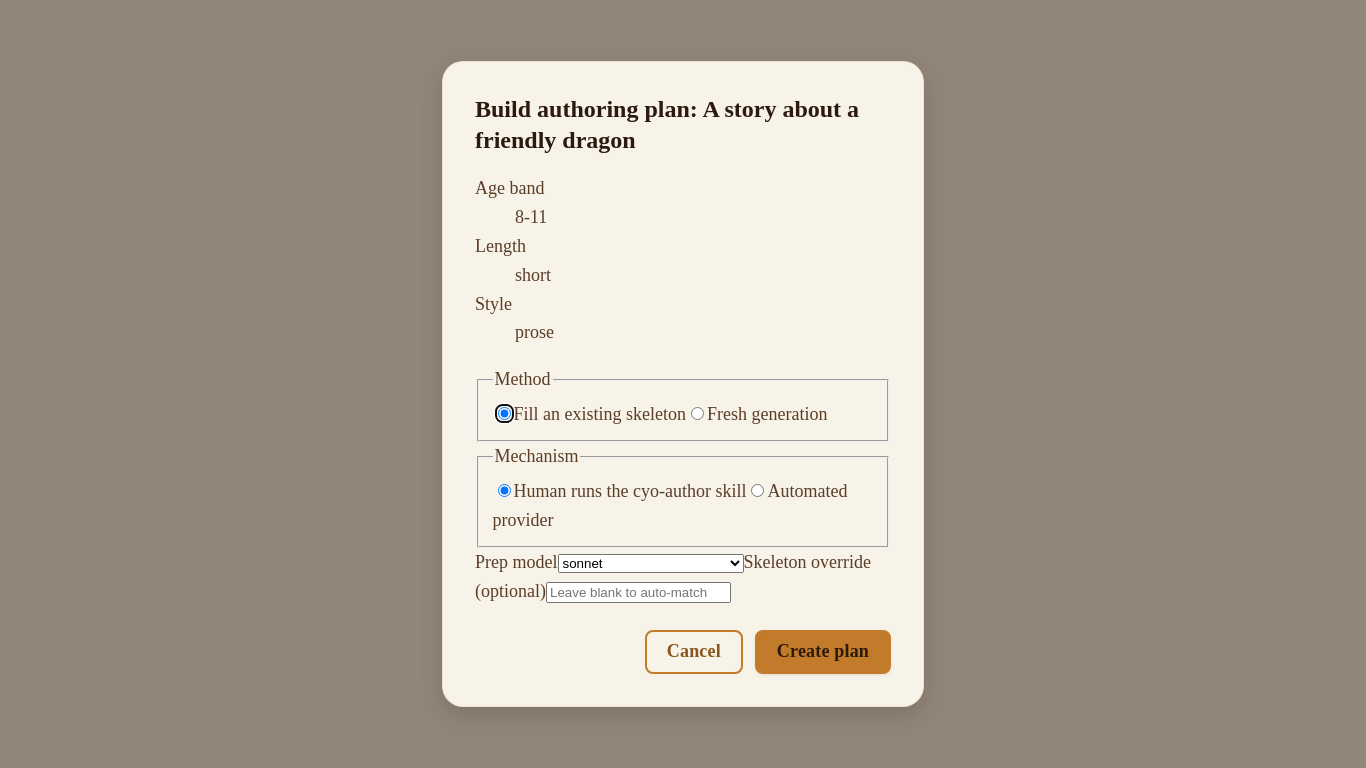
Test: AuthoringPlanDialog › requires provider and model before Create plan is enabled for an automated job
Click the radio button labelled "Automated provider": click(758, 491) [752,484,764,498]
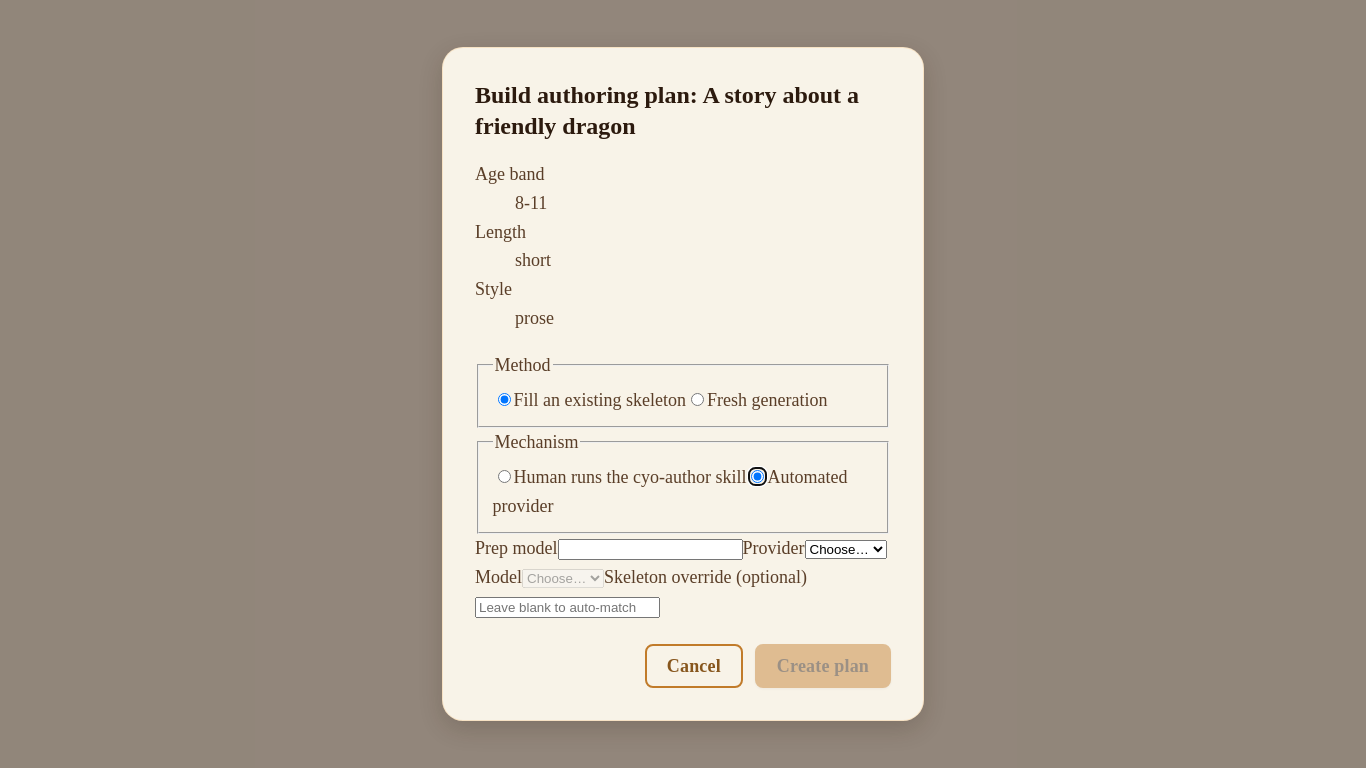
In the field labelled "Prep model": (650, 549) [558,539,742,560], type "claude-sonnet-4-6"
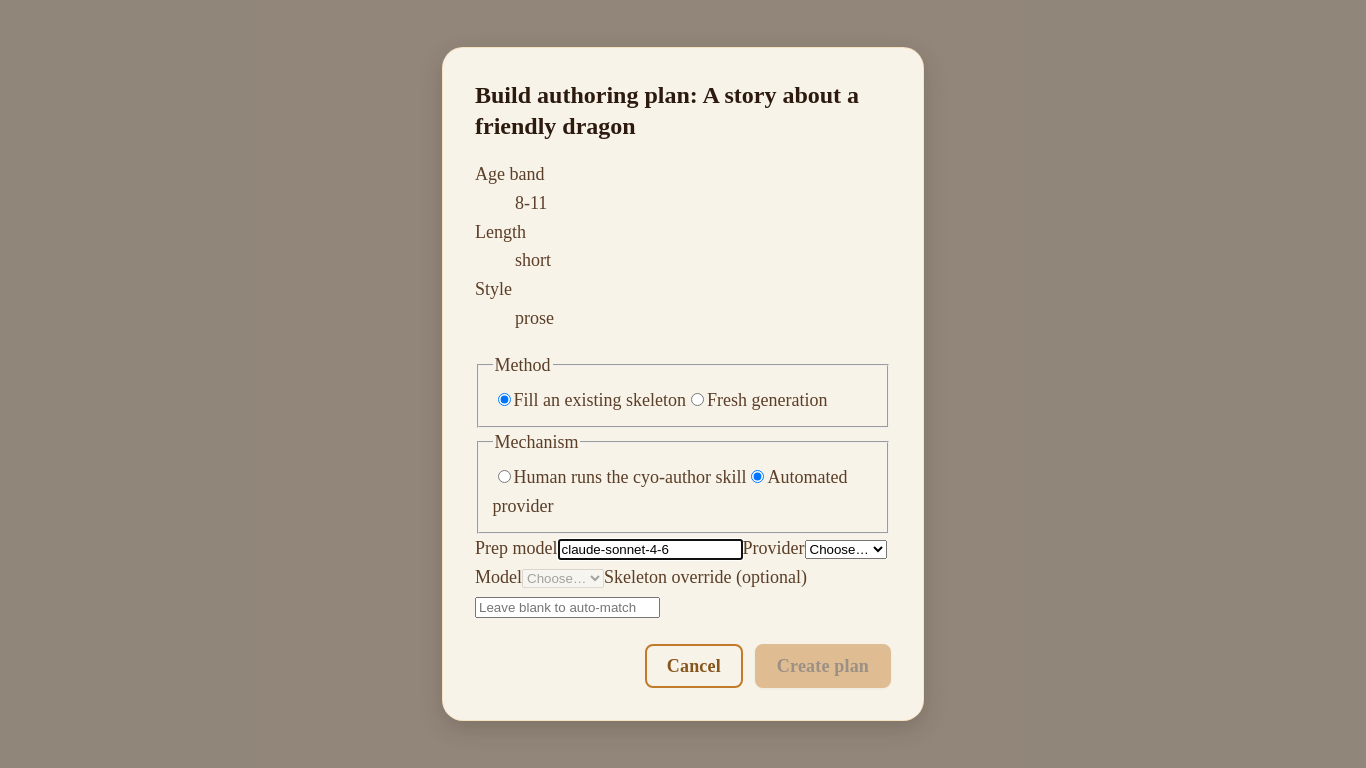
Expected: the button "Create plan" is disabled, [755,644,891,688]
Select "anthropic" in the dropdown labelled "Provider": (846, 549) [804,540,886,559]
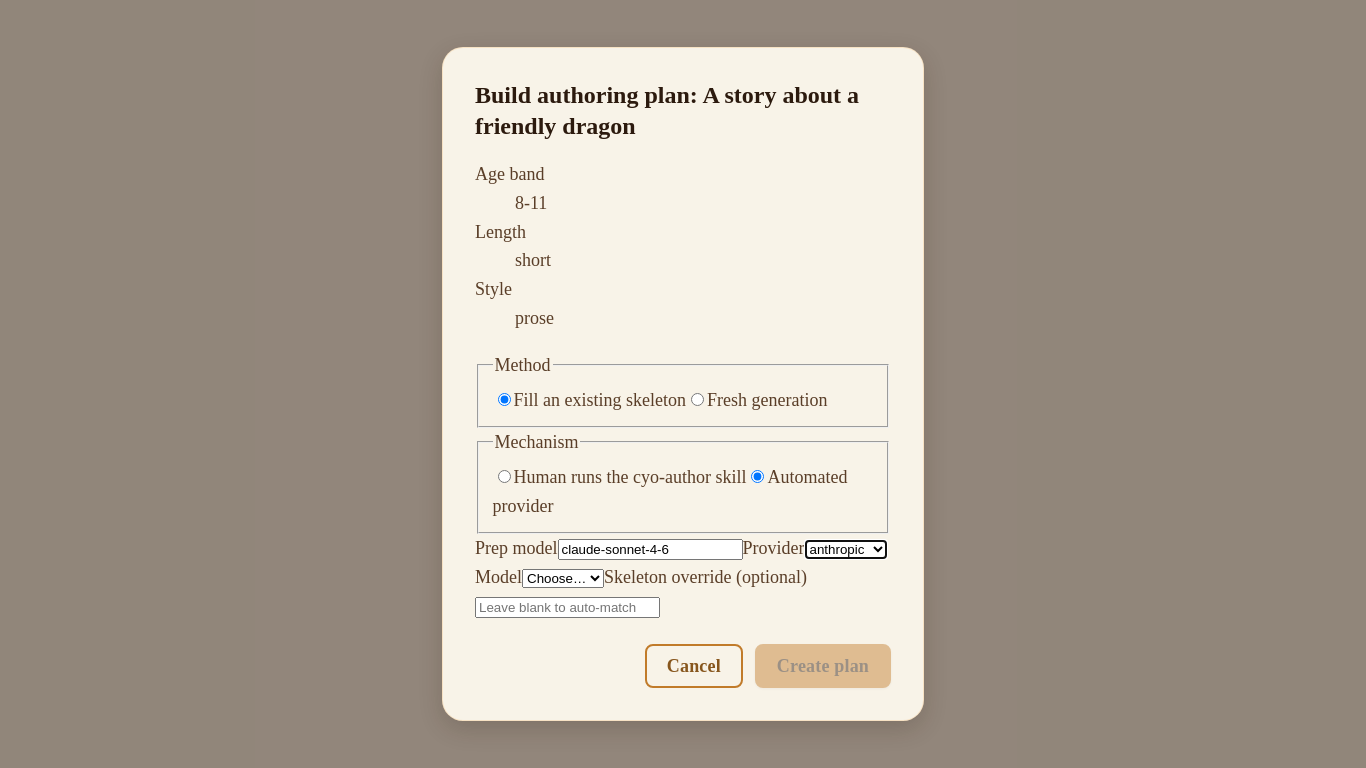
Select "Sonnet" in the dropdown labelled "Model": (563, 578) [522,569,604,588]
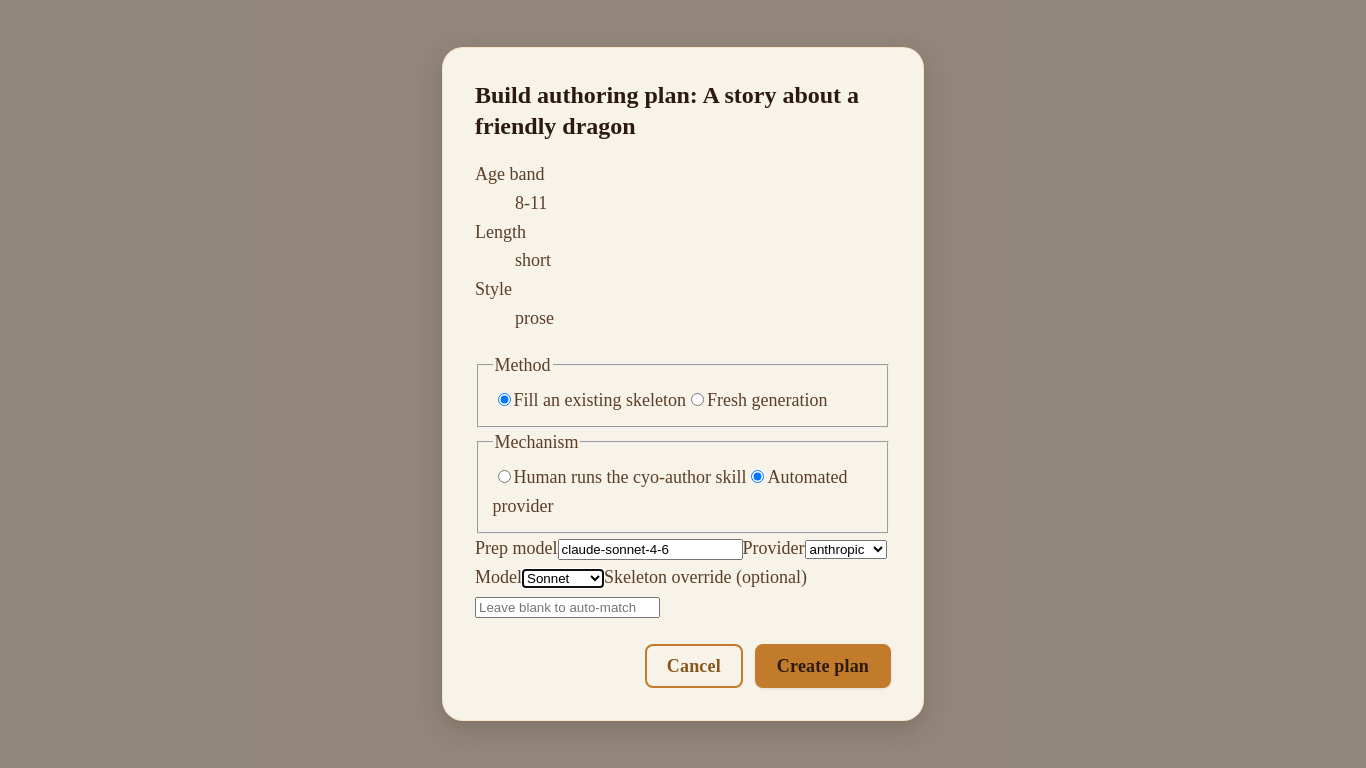
Expected: the button "Create plan" is enabled, [755,644,891,688]
